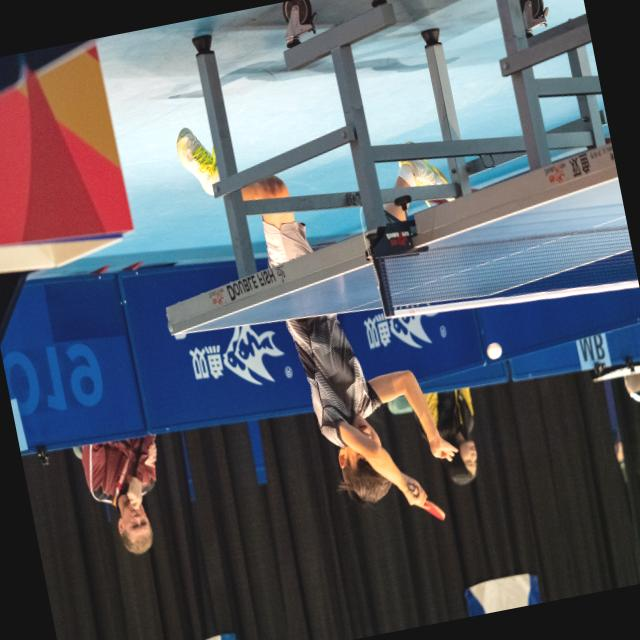TT Net: (365, 219, 640, 324)
TT Racket: (405, 475, 447, 525)
TT Table: (109, 0, 640, 391)
